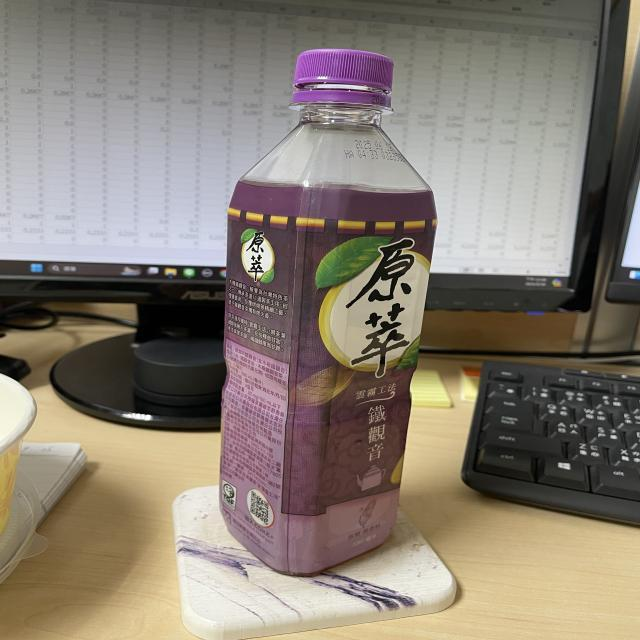YuanTsui_TieGuanYing: (202, 33, 452, 586)
